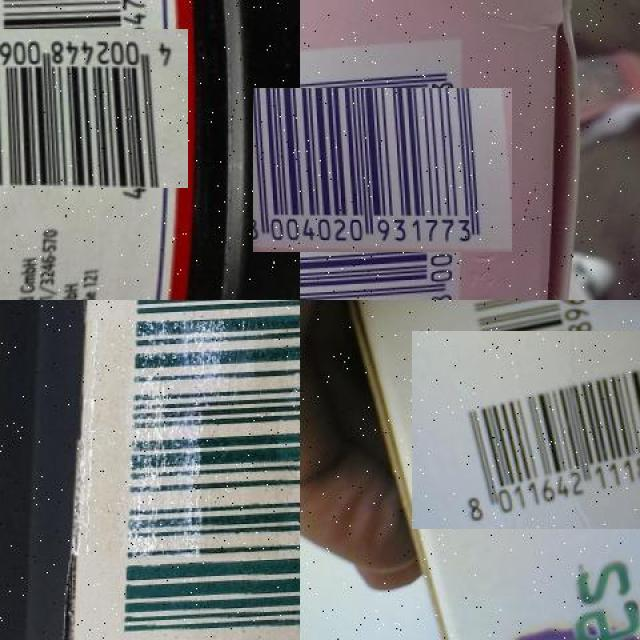Barcode: (113, 300, 300, 640), (426, 315, 640, 544), (276, 64, 488, 276), (0, 14, 174, 202)
